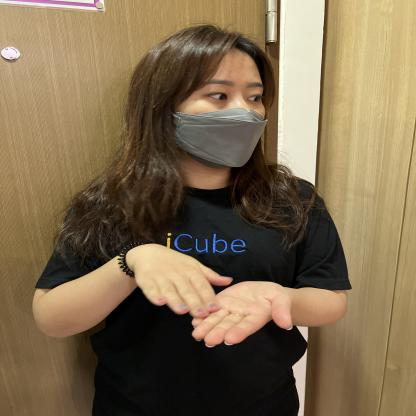Love: (79, 204, 323, 356)
